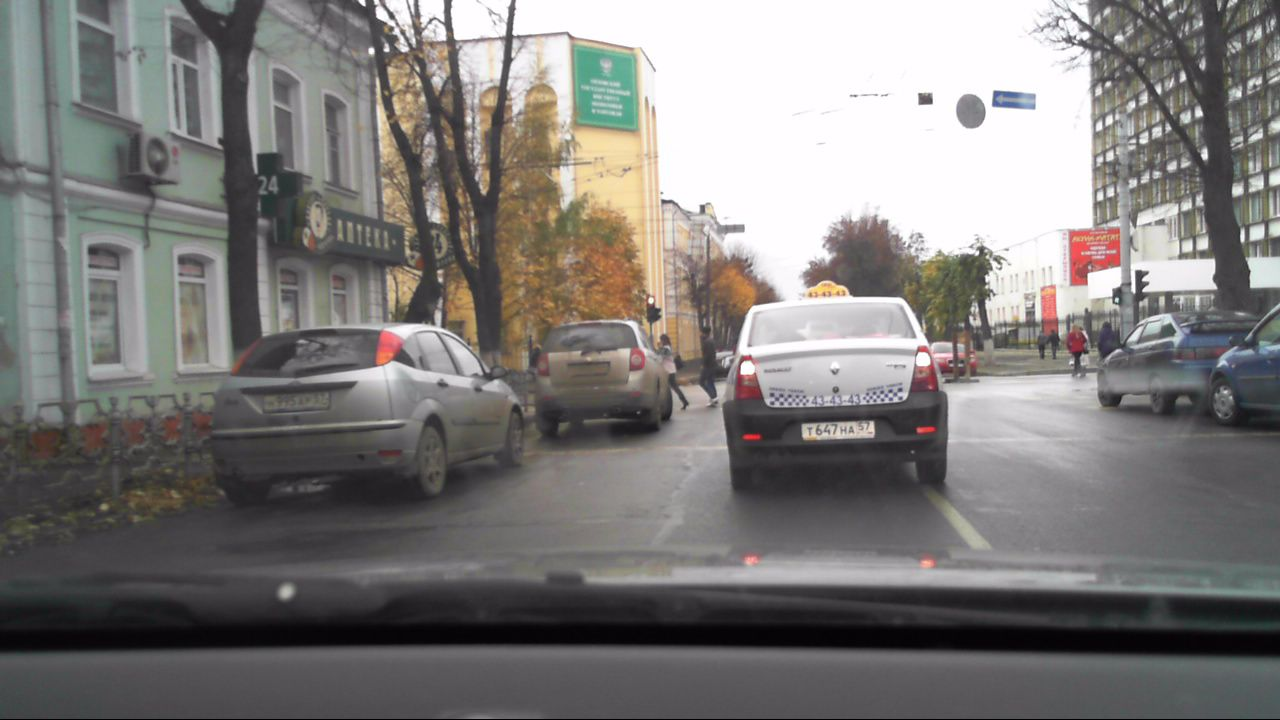One-Way Traffic: (992, 90, 1036, 110)
